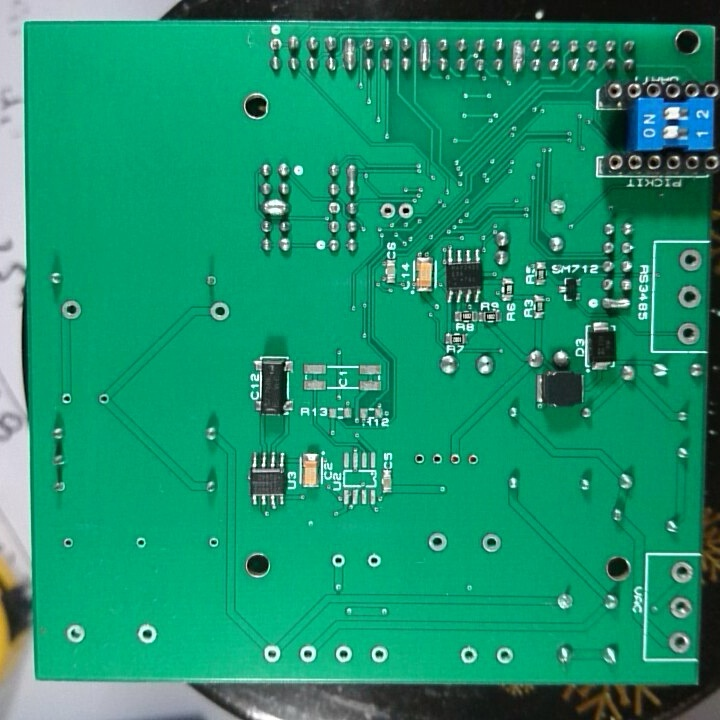F: (673, 319, 704, 350), (675, 283, 704, 311), (676, 246, 704, 274), (669, 595, 696, 622), (479, 530, 505, 558), (133, 620, 159, 647), (669, 558, 695, 585), (425, 529, 450, 557), (552, 588, 576, 616), (63, 620, 88, 646), (206, 300, 233, 323), (59, 298, 84, 322), (667, 630, 690, 655), (547, 196, 570, 220), (368, 642, 391, 666), (297, 642, 318, 668), (493, 643, 516, 666), (457, 644, 481, 666), (261, 641, 282, 666), (378, 200, 399, 222), (334, 642, 353, 665), (397, 199, 416, 221), (465, 450, 483, 473), (329, 550, 346, 573), (364, 550, 382, 571), (202, 271, 221, 289), (325, 198, 342, 216), (59, 390, 76, 408), (94, 390, 113, 406), (51, 479, 68, 495), (412, 451, 427, 469), (429, 451, 444, 469), (268, 35, 283, 52), (447, 452, 462, 468), (207, 533, 219, 552), (61, 534, 75, 550), (133, 535, 147, 551)
P: (260, 197, 290, 217), (417, 37, 433, 74), (601, 295, 632, 314), (342, 35, 356, 74), (345, 162, 361, 196), (511, 37, 524, 75)
